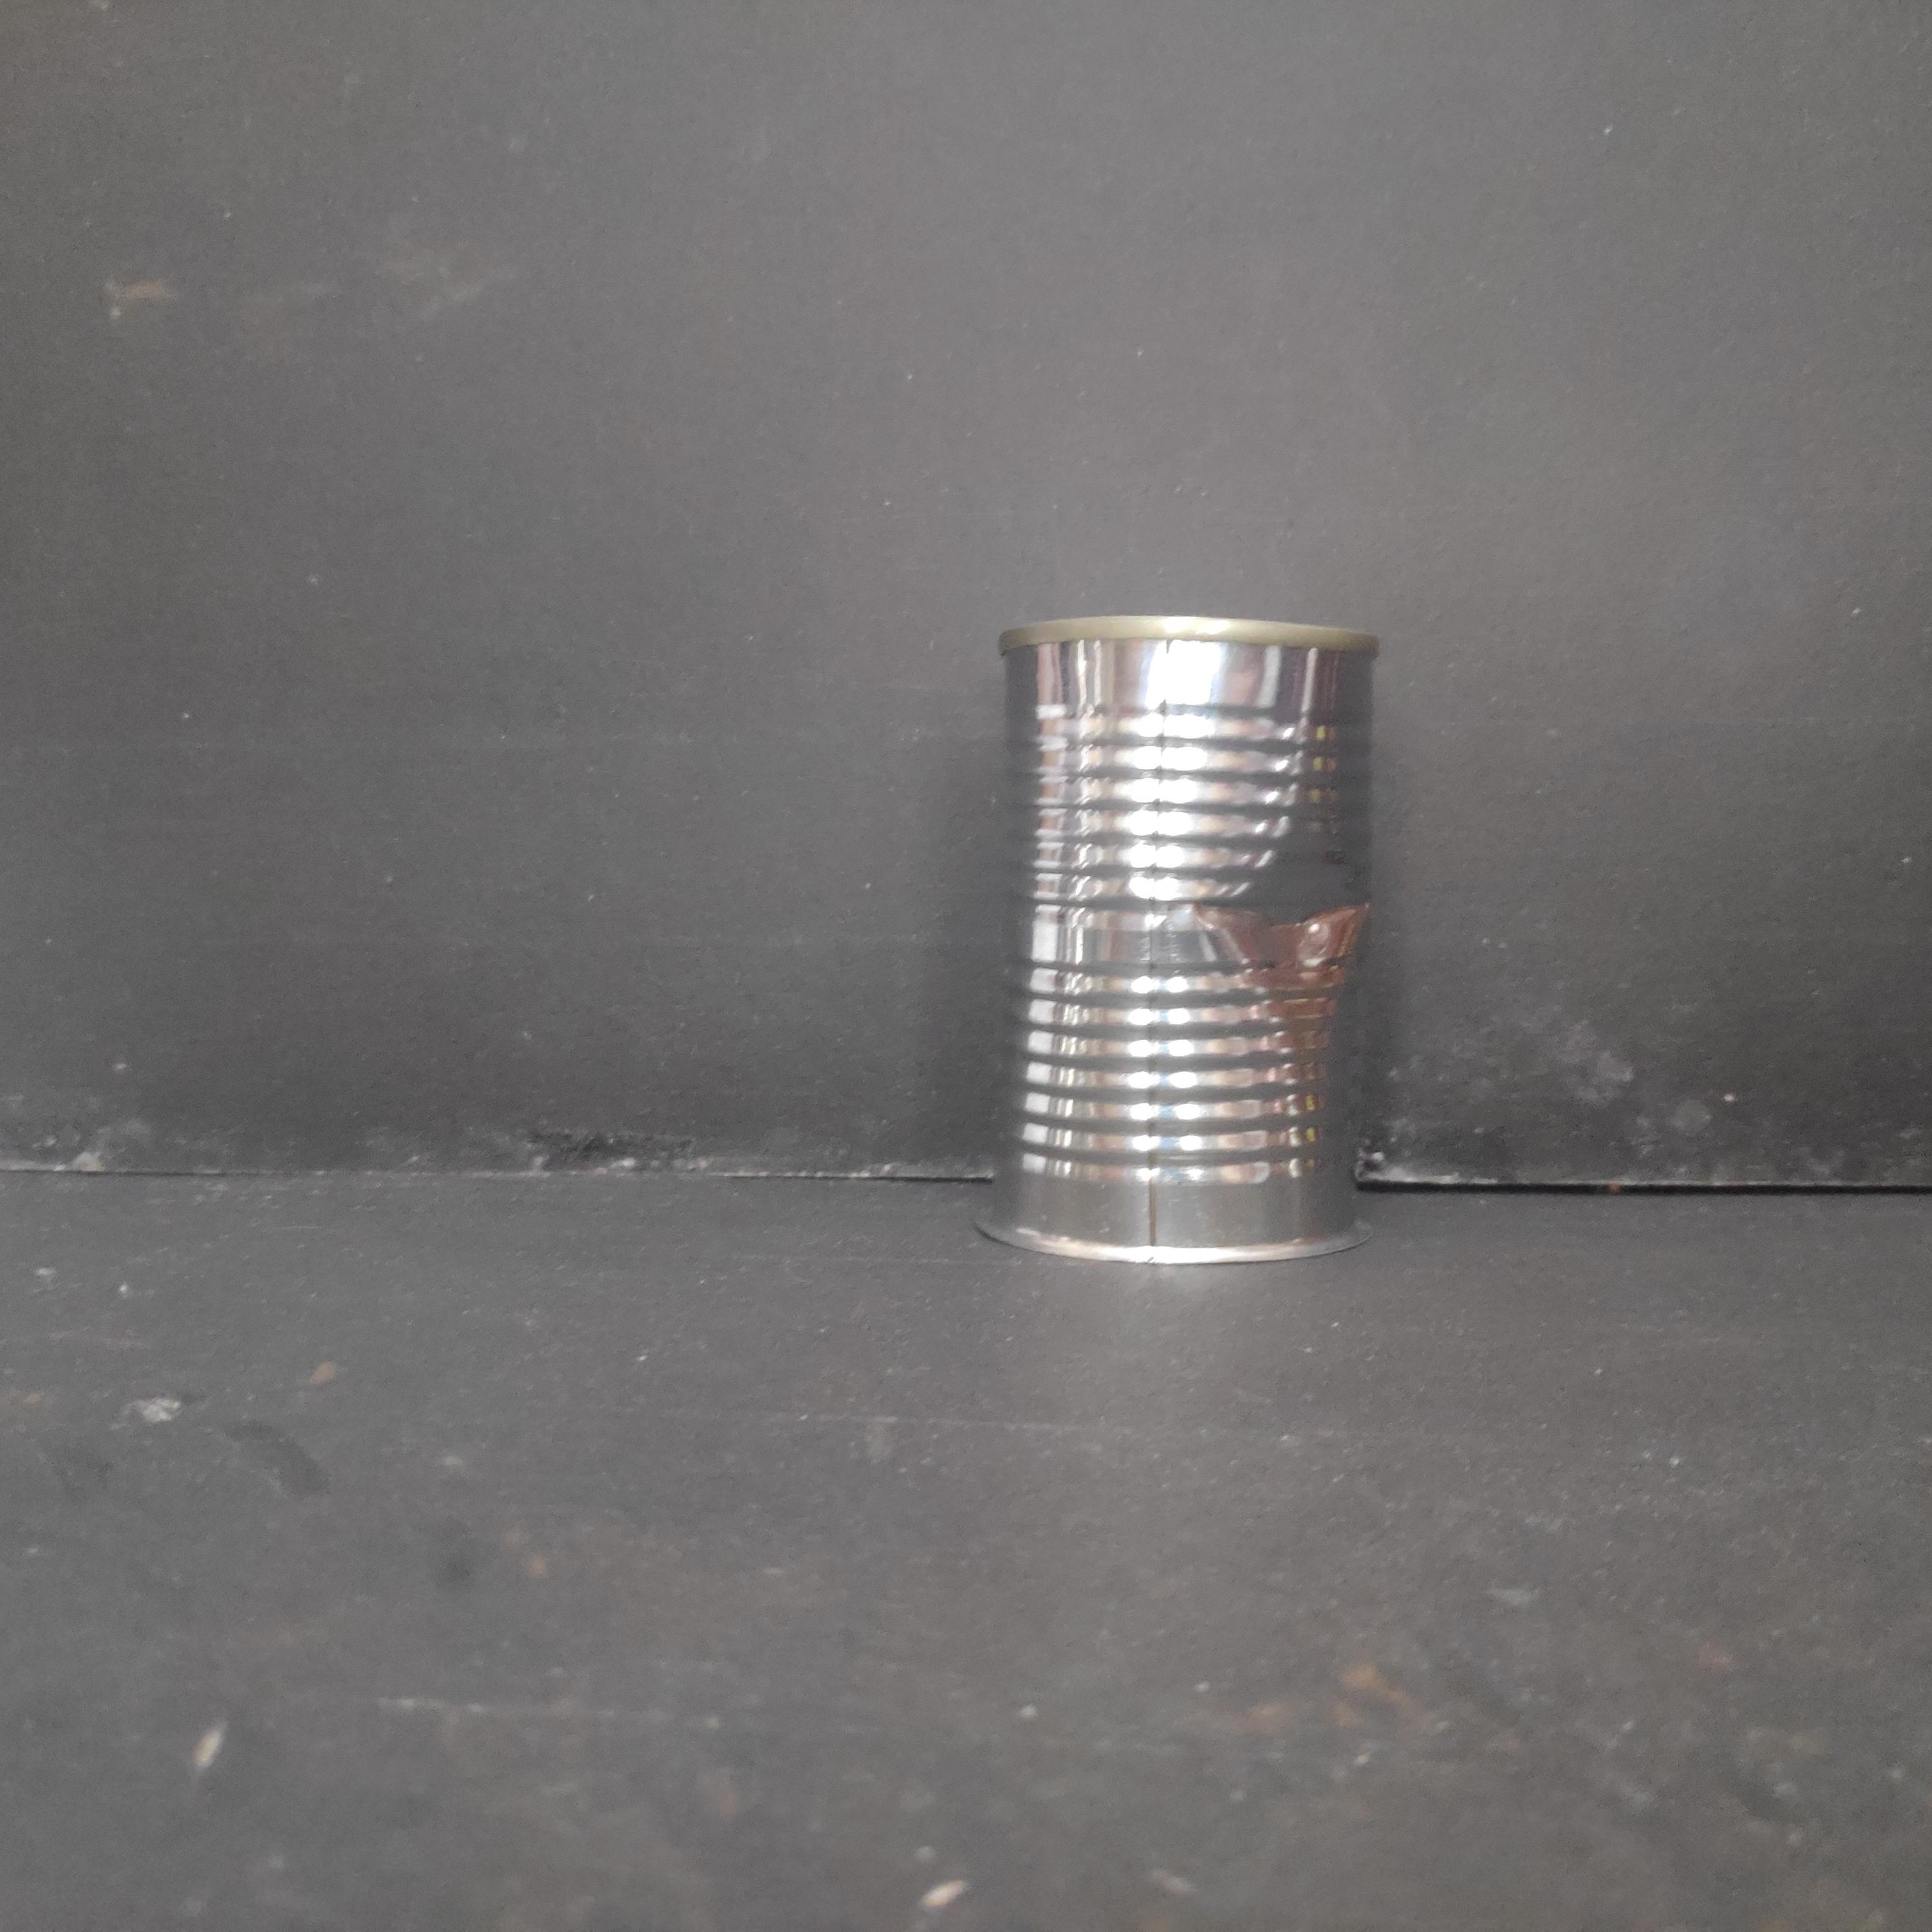Minor Defect: (973, 607, 1389, 1269)
